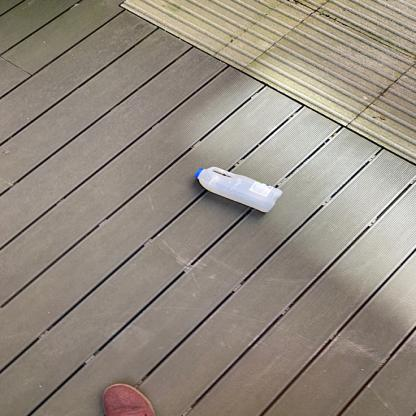trash: (192, 166, 284, 215)
